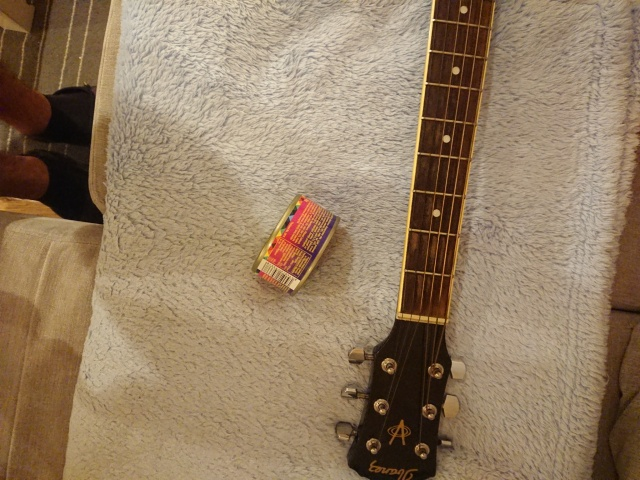Giana Tuna Salad Mexico 185g: (249, 190, 344, 300)
